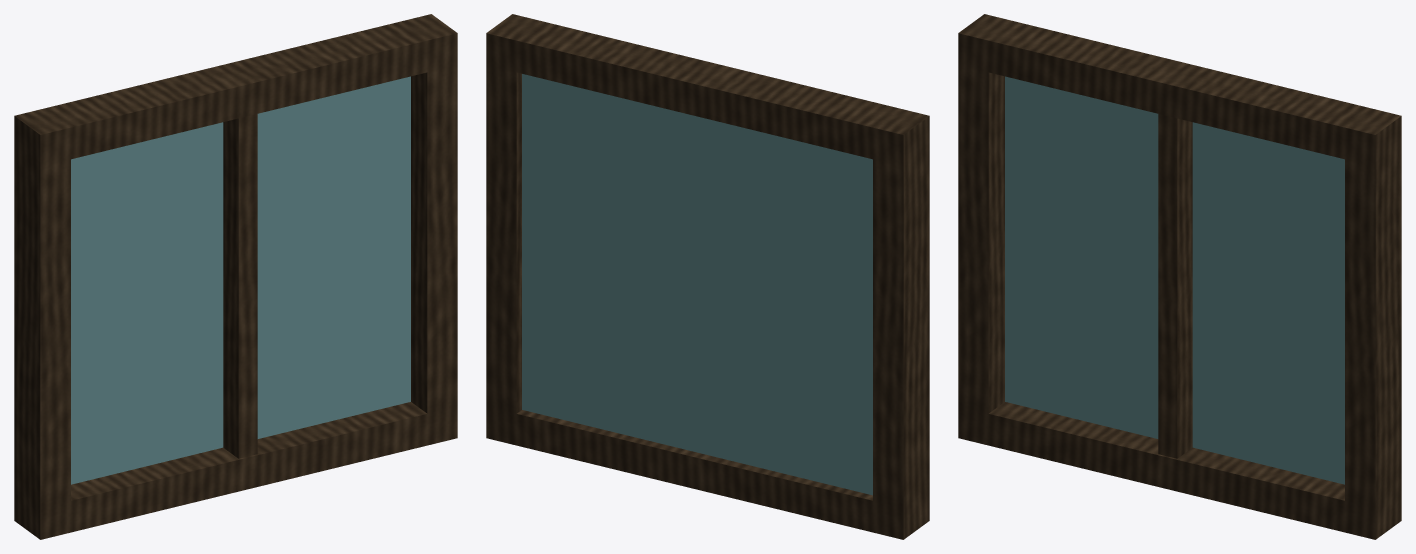
The model's file is Window_Frame_1x1.glb.
3 views of the same model, side by side, from view 1: azimuth 30°, elevation 25°; view 2: azimuth 150°, elevation 25°; view 3: azimuth 330°, elevation 25° (orthographic).
Parts seen in each view (by area): view 1: Window_Frame_1x1; view 2: Window_Frame_1x1; view 3: Window_Frame_1x1.
Boxes of the visible parts, x1,y1,x2,y2 form: Window_Frame_1x1: (14, 14, 457, 539); Window_Frame_1x1: (486, 14, 929, 539); Window_Frame_1x1: (958, 14, 1401, 539).
Bounding box in the file's own units: 1.1 × 1.02 × 0.12.
Materials: 2 (1 with a texture image).
